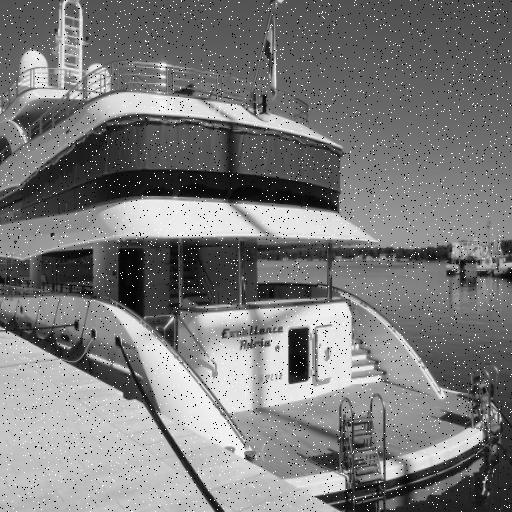cruises: (1, 1, 509, 512)
